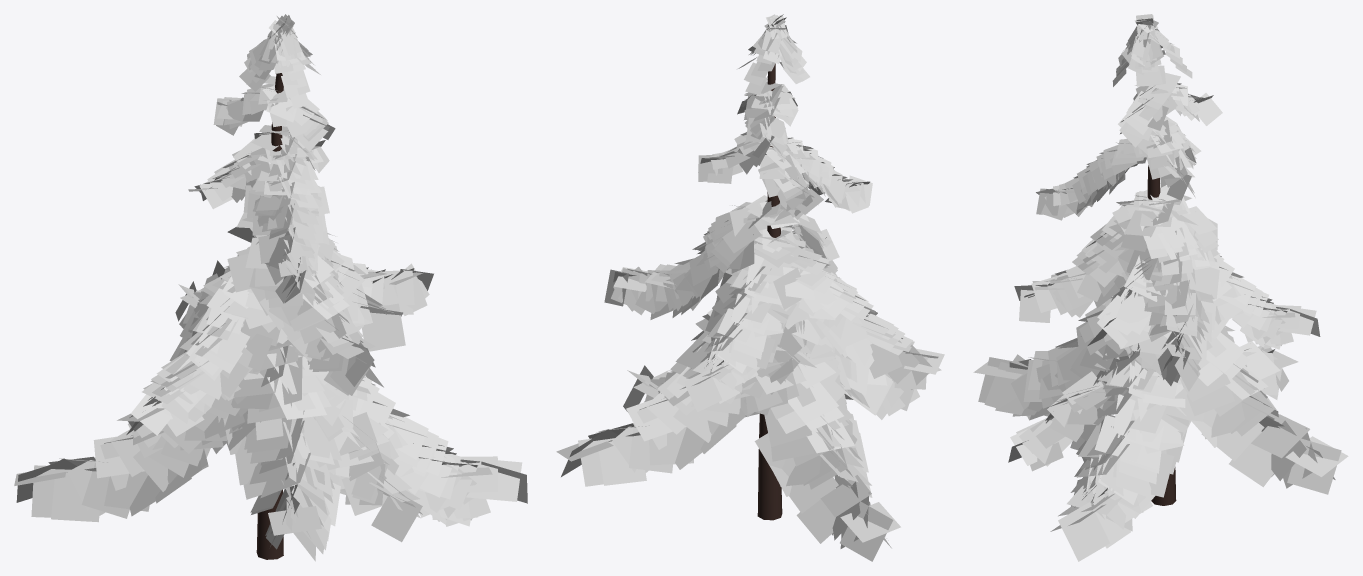
Rendered from SpruceTreeLarge2.fbx.
3 renders of one model, left to right at view 1: azimuth 30°, elevation 25°; view 2: azimuth 150°, elevation 25°; view 3: azimuth 270°, elevation 25°, orthographic. The views are drawn at different scales.
Visible parts, largest first — view 1: SpruceTreeLarge2; view 2: SpruceTreeLarge2; view 3: SpruceTreeLarge2.
Boxes of the visible parts, box(x1,y1,x2,y2) form: SpruceTreeLarge2: box(14, 14, 527, 561); SpruceTreeLarge2: box(556, 14, 944, 561); SpruceTreeLarge2: box(973, 14, 1348, 561).
Bounding box in the file's own units: 1889 × 2390 × 1672.
